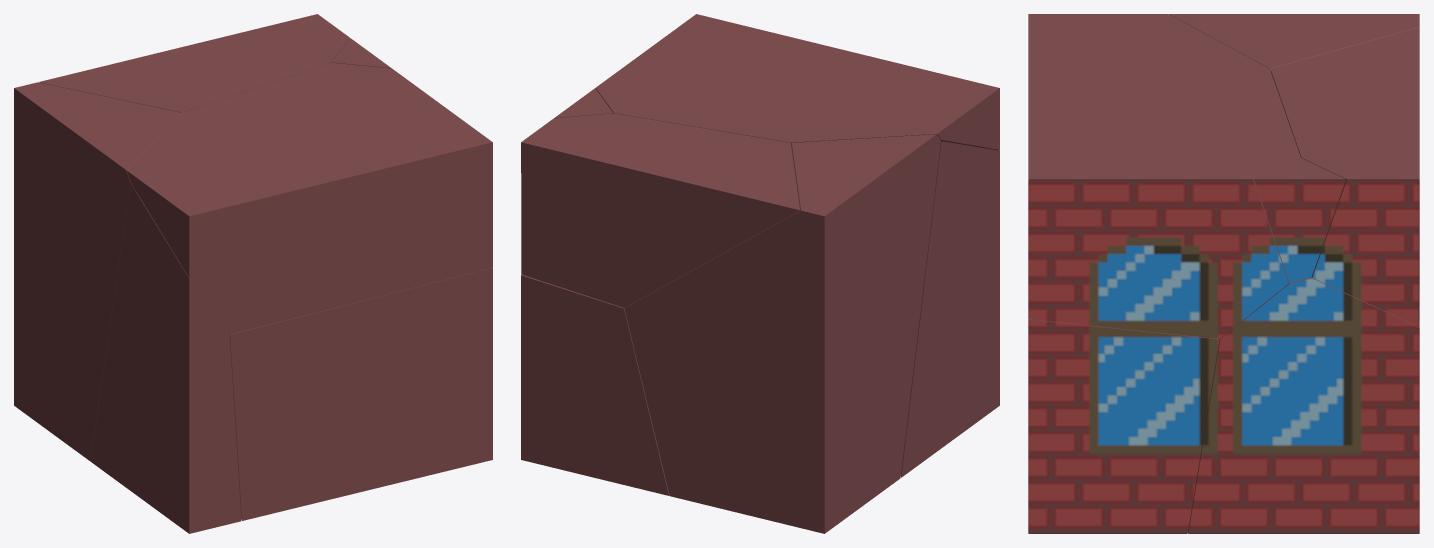
File: BrickBuildingRed128x128_Floor01_break.fbx
3 renders of one model, left to right at view 1: azimuth 30°, elevation 25°; view 2: azimuth 150°, elevation 25°; view 3: azimuth 270°, elevation 25°, orthographic. The views are drawn at different scales.
Parts seen in each view (by area): view 1: Floor01Break02, Floor01Break05, Floor01Break07, Floor01Break06, Floor01Break03, Floor01Break01; view 2: Floor01Break07, Floor01Break03, Floor01Break02, Floor01Break06, Floor01Break04, Floor01Break01; view 3: Floor01Break02, Floor01Break04, Floor01Break05, Floor01Break03, Floor01Break07, Floor01Break01.
Part boxes in pixels (left/top/right/bottom): Floor01Break02: left=127, top=62, right=492, bottom=334; Floor01Break05: left=228, top=267, right=492, bottom=520; Floor01Break07: left=14, top=82, right=180, bottom=461; Floor01Break06: left=90, top=184, right=241, bottom=533; Floor01Break03: left=39, top=14, right=349, bottom=112; Floor01Break01: left=331, top=38, right=391, bottom=68; Floor01Break07: left=624, top=134, right=940, bottom=533; Floor01Break03: left=521, top=113, right=799, bottom=307; Floor01Break02: left=595, top=14, right=999, bottom=150; Floor01Break06: left=901, top=141, right=999, bottom=477; Floor01Break04: left=521, top=274, right=669, bottom=495; Floor01Break01: left=554, top=88, right=612, bottom=118; Floor01Break02: left=1028, top=14, right=1300, bottom=338; Floor01Break04: left=1188, top=277, right=1419, bottom=533; Floor01Break05: left=1028, top=319, right=1219, bottom=533; Floor01Break03: left=1270, top=27, right=1419, bottom=326; Floor01Break07: left=1169, top=14, right=1419, bottom=70; Floor01Break01: left=1254, top=158, right=1345, bottom=282.
Bounding box in the file's own units: 100 × 100 × 100.
Materials: 1 (1 with a texture image).
